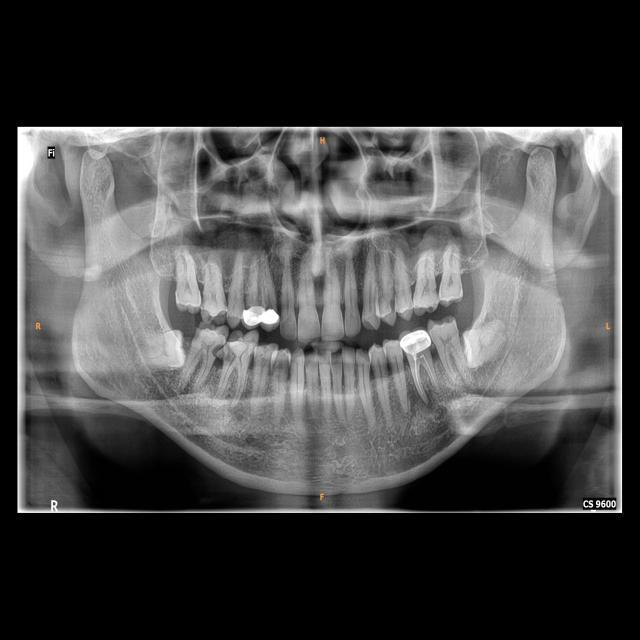dentin-curugu: (212, 341, 224, 362)
kanal-tedavisi: (412, 351, 434, 395)
kaplama: (398, 328, 431, 355), (258, 306, 280, 326), (244, 304, 264, 325)
